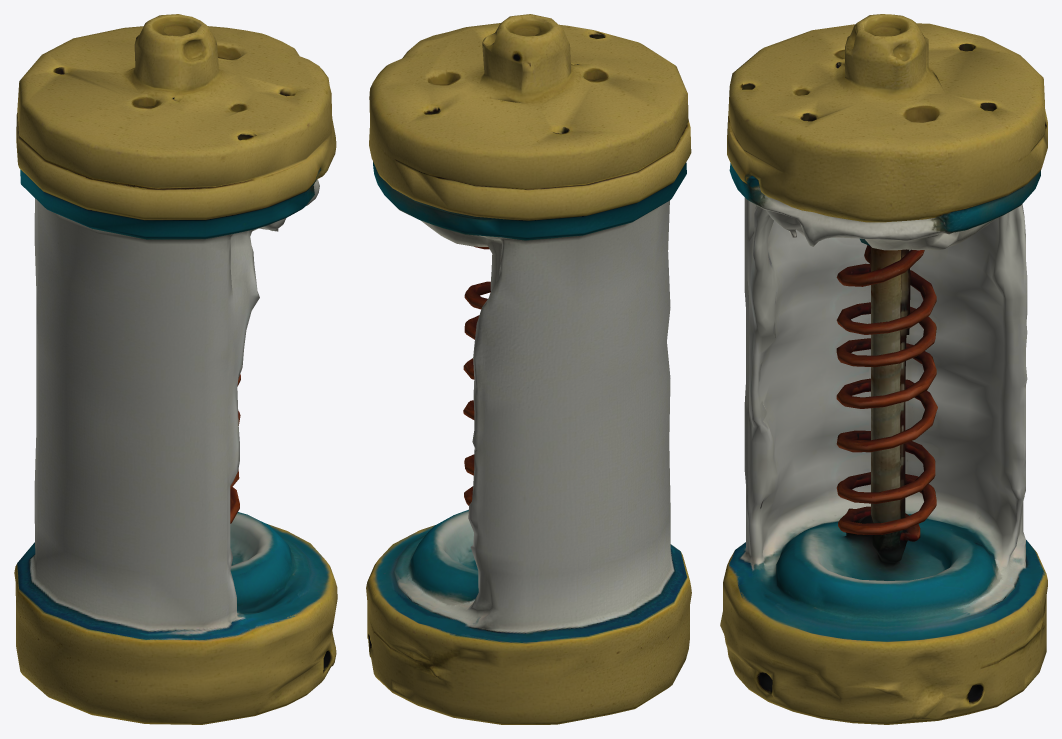
The picture shows the model from 3 angles, left to right: view 1: azimuth 30°, elevation 25°; view 2: azimuth 150°, elevation 25°; view 3: azimuth 270°, elevation 25°; orthographic projection.
Parts seen in each view (by area): view 1: tripo_node_f347a0d5-1541-4a21-8ef9-95533edcca81; view 2: tripo_node_f347a0d5-1541-4a21-8ef9-95533edcca81; view 3: tripo_node_f347a0d5-1541-4a21-8ef9-95533edcca81.
Part boxes in pixels (<box>): tripo_node_f347a0d5-1541-4a21-8ef9-95533edcca81: <box>14,14,337,724</box>; tripo_node_f347a0d5-1541-4a21-8ef9-95533edcca81: <box>366,14,691,724</box>; tripo_node_f347a0d5-1541-4a21-8ef9-95533edcca81: <box>720,14,1047,724</box>.
Bounding box in the file's own units: 0.0554 × 0.12 × 0.0561.
Materials: 1 (1 with a texture image).
